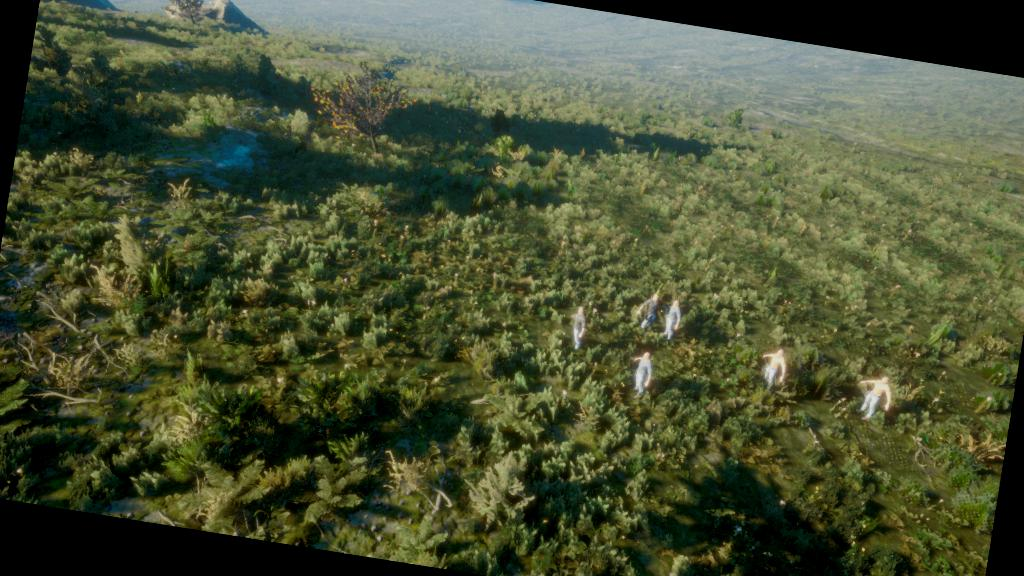human: (628, 272, 691, 344), (843, 362, 900, 437), (622, 342, 665, 416), (750, 338, 800, 399), (560, 286, 599, 360)
